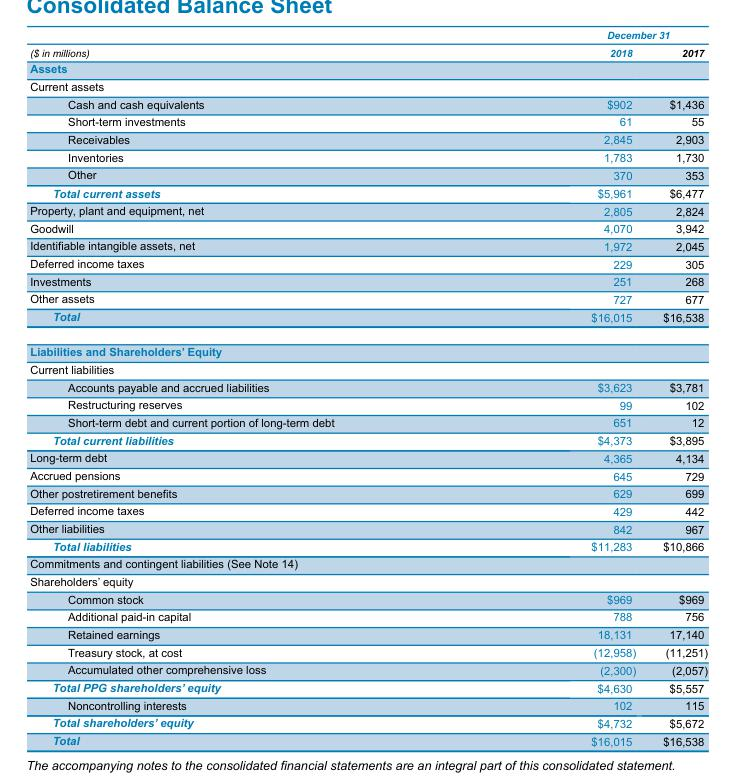table: (29, 28, 707, 747)
table column: (29, 28, 461, 747), (461, 28, 648, 747), (648, 28, 707, 747)
table column header: (29, 28, 707, 59)
table projected row header: (29, 333, 707, 360), (29, 59, 707, 77), (29, 554, 707, 572), (29, 77, 707, 94), (29, 360, 707, 377), (29, 572, 707, 589)
table row: (29, 333, 707, 360), (29, 307, 707, 333), (29, 165, 707, 184), (29, 59, 707, 77), (29, 94, 707, 112), (29, 112, 707, 130), (29, 130, 707, 148), (29, 201, 707, 219), (29, 236, 707, 254), (29, 254, 707, 272), (29, 289, 707, 307), (29, 377, 707, 395), (29, 395, 707, 413), (29, 430, 707, 448), (29, 448, 707, 466), (29, 466, 707, 484), (29, 501, 707, 519), (29, 519, 707, 537), (29, 554, 707, 572), (29, 589, 707, 607), (29, 607, 707, 625), (29, 642, 707, 660), (29, 660, 707, 678), (29, 678, 707, 696), (29, 713, 707, 731), (29, 77, 707, 94), (29, 148, 707, 165), (29, 184, 707, 201), (29, 219, 707, 236), (29, 272, 707, 289), (29, 360, 707, 377), (29, 413, 707, 430), (29, 484, 707, 501), (29, 537, 707, 554), (29, 572, 707, 589), (29, 625, 707, 642), (29, 696, 707, 713), (29, 43, 707, 59), (29, 731, 707, 747), (29, 28, 707, 43)
table spanning cell: (29, 28, 461, 59), (461, 28, 707, 43)
